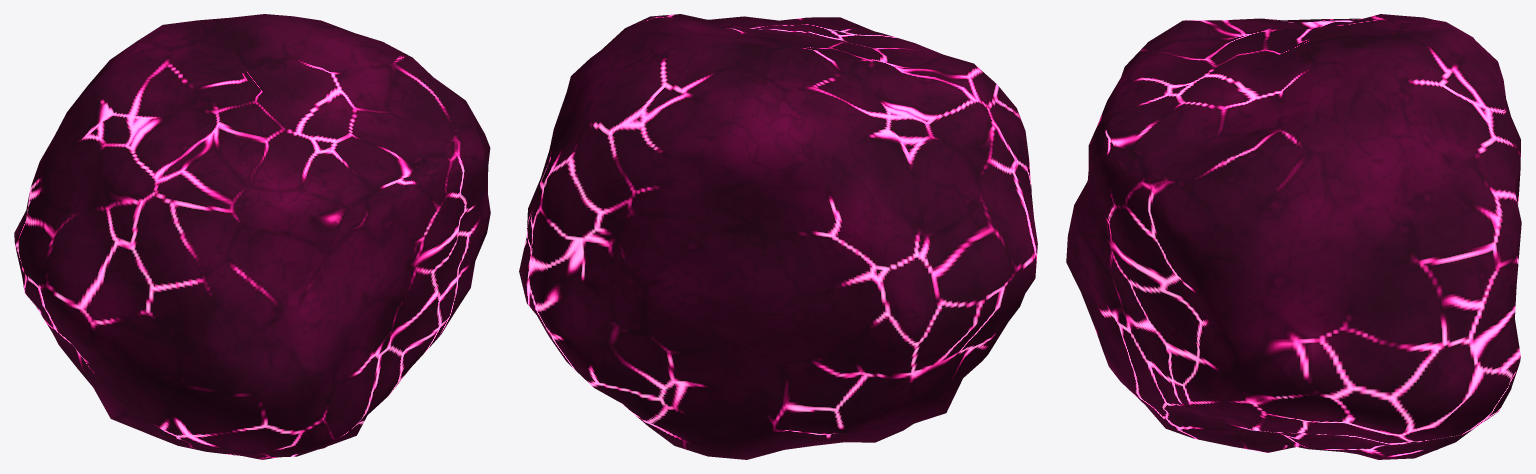
Rendered from rock_warm_rose.glb.
3 renders of one model, left to right at view 1: azimuth 30°, elevation 25°; view 2: azimuth 150°, elevation 25°; view 3: azimuth 270°, elevation 25°, orthographic. The views are drawn at different scales.
Parts seen in each view (by area): view 1: rock; view 2: rock; view 3: rock.
Boxes of the visible parts, x1,y1,x2,y2 form: rock: [14, 14, 490, 459]; rock: [519, 14, 1037, 459]; rock: [1066, 14, 1521, 459].
Bounding box in the file's own units: 2.04 × 1.74 × 1.71.
1 material, 1 textured.
